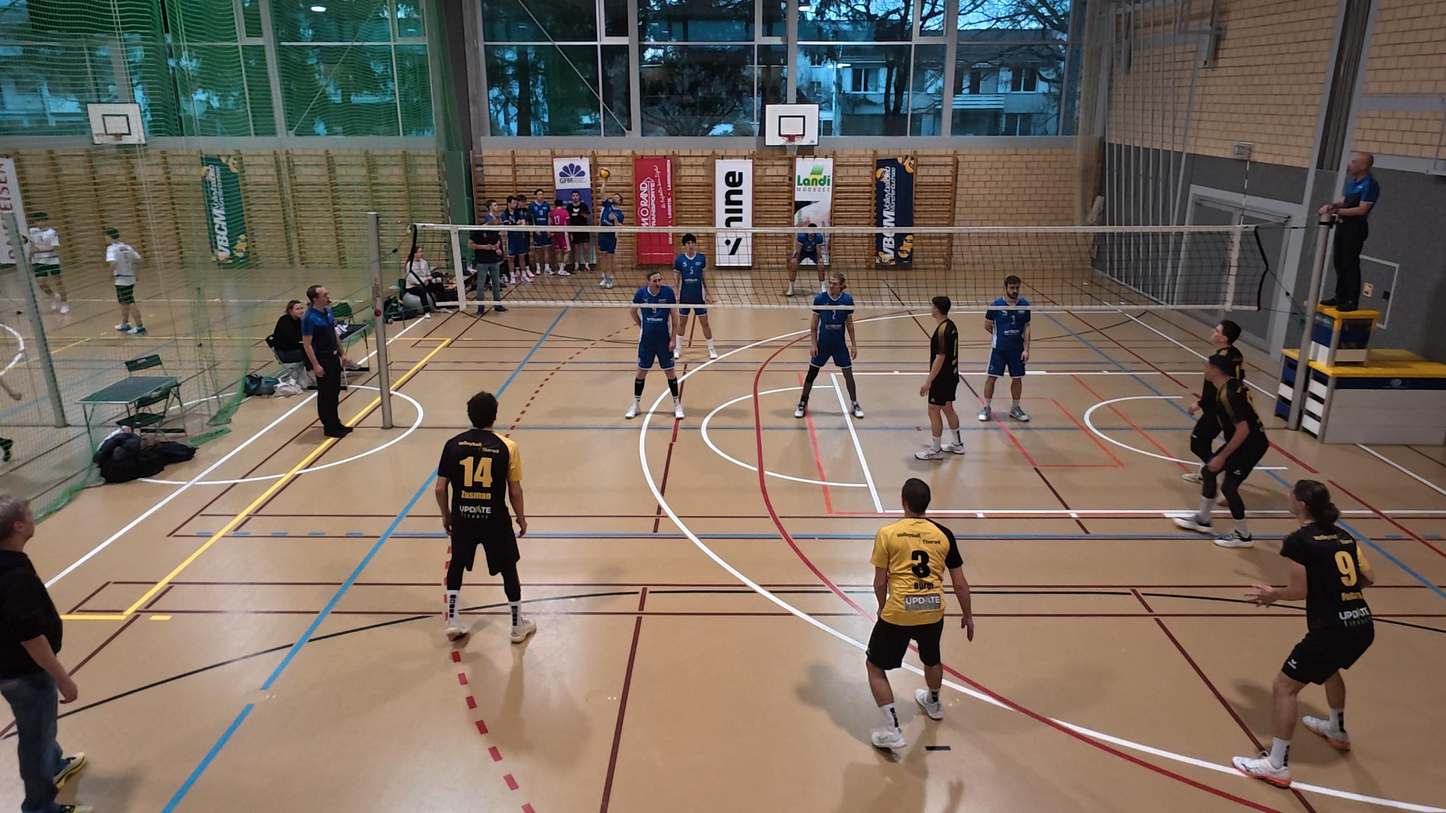battuta: (588, 170, 625, 292)
